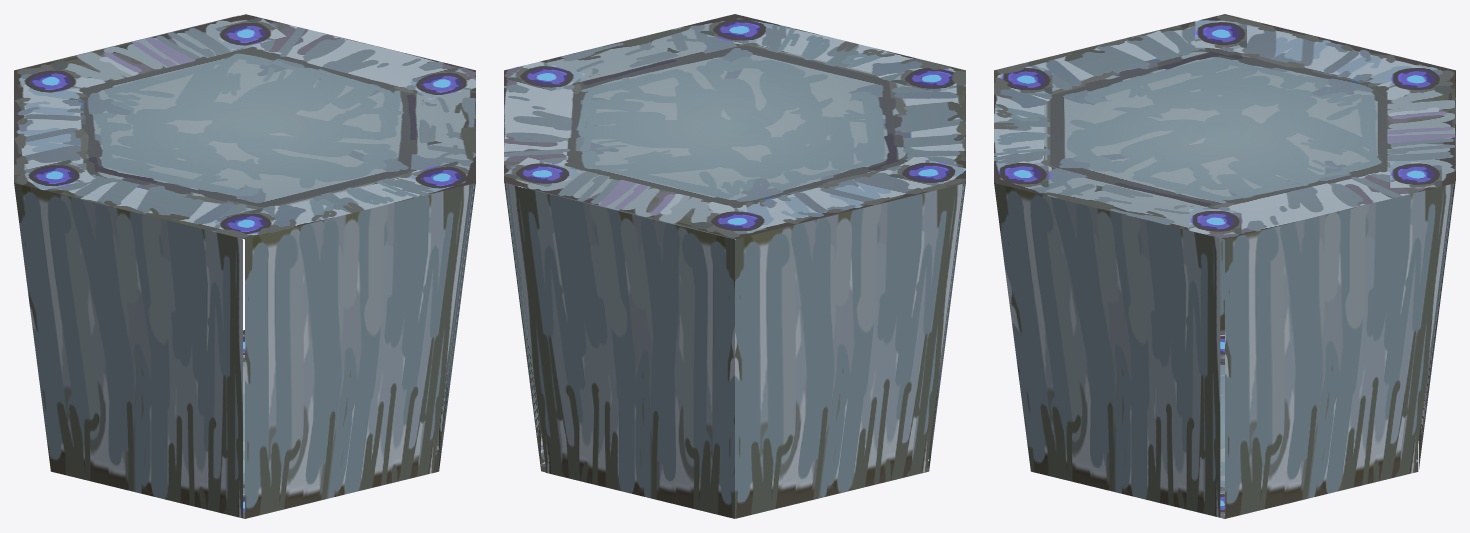
Rendered from tile_hero_good.FBX.
3 views of the same model, side by side, from view 1: azimuth 30°, elevation 25°; view 2: azimuth 150°, elevation 25°; view 3: azimuth 270°, elevation 25° (orthographic).
Parts seen in each view (by area): view 1: Box004; view 2: Box004; view 3: Box004.
Boxes of the visible parts, left/top/right/bottom form: Box004: left=14, top=14, right=475, bottom=518; Box004: left=504, top=14, right=965, bottom=518; Box004: left=994, top=14, right=1455, bottom=518.
Size of the model in its own units: 41.95 by 36.33 by 25.83.
Materials: 1 (1 with a texture image).
